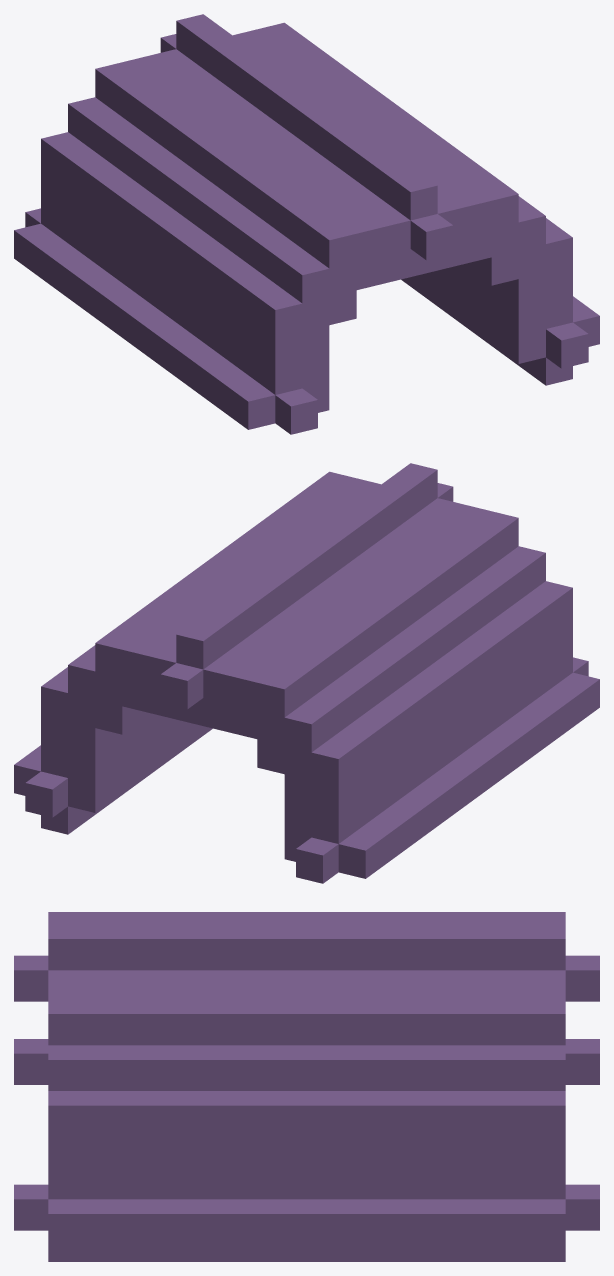
File: alien-biosphere-tunnel-root-b1c5fe8a__22831.glb
3 views of the same model, one above another, from view 1: azimuth 30°, elevation 25°; view 2: azimuth 150°, elevation 25°; view 3: azimuth 270°, elevation 25° (orthographic). The views are drawn at different scales.
Parts seen in each view (by area): view 1: tunnel-root_0; view 2: tunnel-root_0; view 3: tunnel-root_0.
Part boxes in pixels (x1=…): tunnel-root_0: x1=14, y1=14, x2=599, y2=434; tunnel-root_0: x1=14, y1=463, x2=599, y2=883; tunnel-root_0: x1=14, y1=912, x2=599, y2=1261.
Size of the model in its own units: 2.6 by 1.6 by 3.4.
